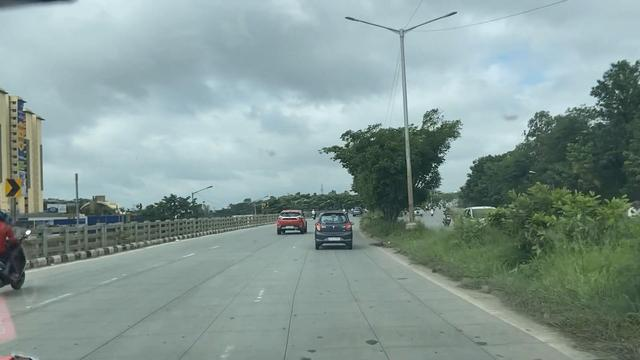LMV: (317, 212, 354, 253), (275, 211, 303, 231)
